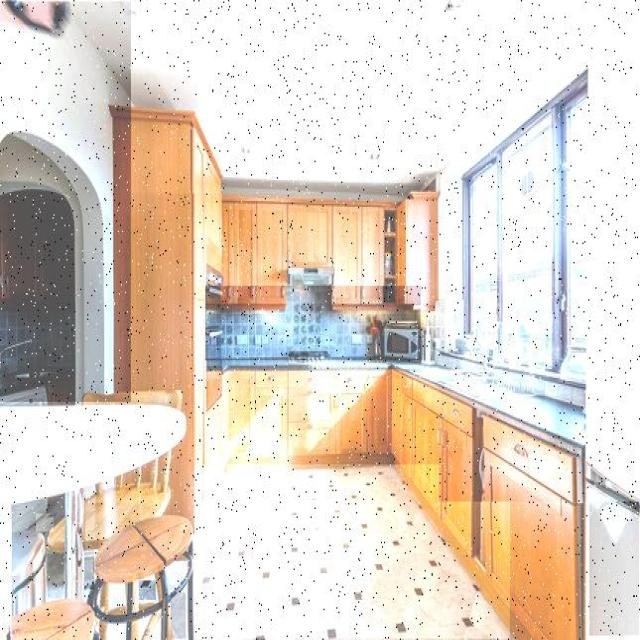Wall: (70, 0, 606, 193), (439, 0, 640, 502), (195, 465, 510, 639), (0, 2, 131, 402), (206, 287, 421, 360), (260, 287, 397, 359), (590, 491, 639, 636), (48, 554, 64, 598), (171, 594, 186, 639), (85, 552, 94, 589), (139, 581, 156, 600), (167, 563, 183, 583), (36, 514, 54, 531), (108, 626, 123, 639), (111, 587, 123, 603)
